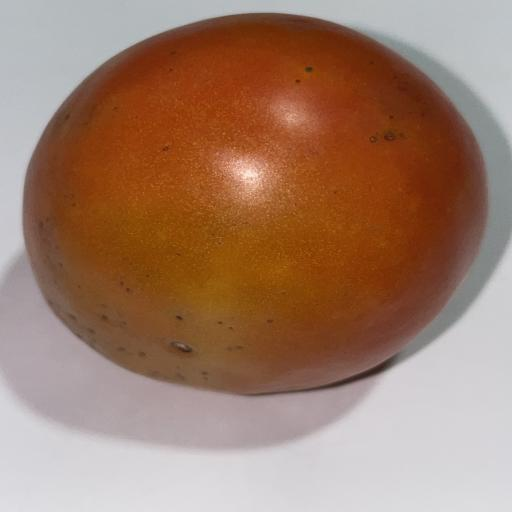unripe: (24, 13, 488, 394)
